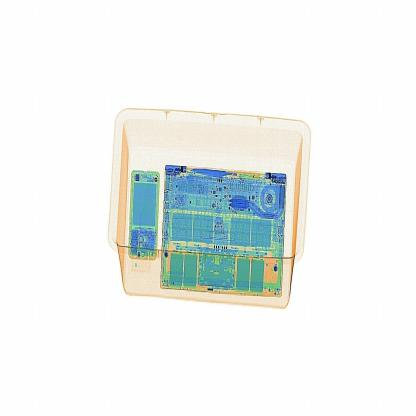wrench: (188, 162, 274, 192)
